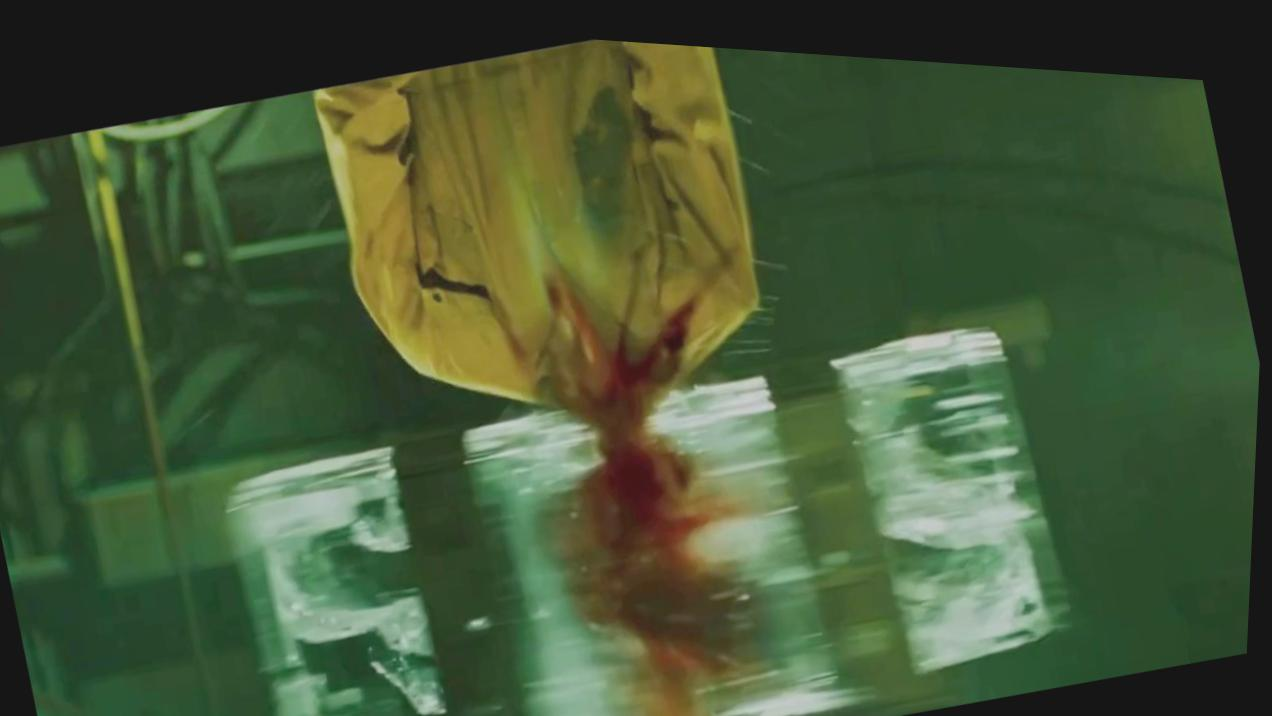Fire: (514, 263, 740, 707)
